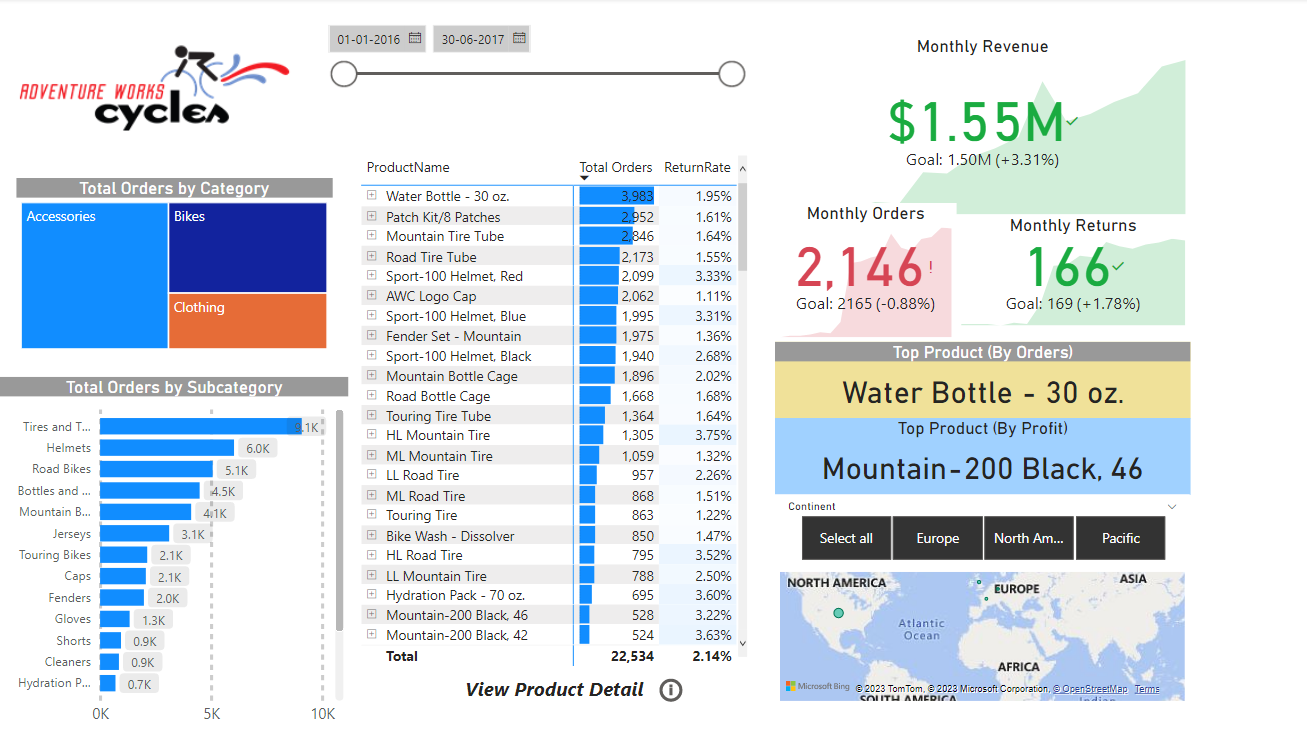

This screenshot's page, from the dashboard's own definition file:
{"tool":"powerbi","page":{"name":"Exec Summary","canvas":[1280,720],"ordinal":0},"visuals":[{"type":"image","box":[14.7,0,276.3,176],"z":0},{"type":"barChart","title":"Total Orders by Subcategory","fields":{"Y":["AW_Sales.Total Orders"],"Category":["AW_Product_Subcategory_Lookup.SubcategoryName"]},"box":[0,370.4,341.1,349.6],"z":1000},{"type":"treemap","title":"Total Orders by Category","fields":{"Group":["AW_Product_Category_Lookup.CategoryName","AW_Product_Subcategory_Lookup.SubcategoryName"],"Values":["AW_Sales.Total Orders"]},"box":[15.9,176,309.3,172.4],"z":2000},{"type":"pivotTable","fields":{"Rows":["AW_Product_Lookup.ProductName","AW_Product_Subcategory_Lookup.SubcategoryName","AW_Product_Category_Lookup.CategoryName"],"Values":["AW_Sales.Total Orders","AW_Returns.ReturnRate"]},"box":[348.8,148.8,387.5,508.8],"z":3000},{"type":"slicer","fields":{"Values":["AW_Calendar_Lookup.Date"]},"box":[307.5,16.2,428.8,110],"z":4000},{"type":"kpi","title":"Monthly Revenue","fields":{"Indicator":["AW_Sales.Total Revenue"],"TrendLine":["AW_Calendar_Lookup.Start of Month"],"Goal":["AW_Sales.Prev Month Revenue"]},"box":[757.5,36.2,406.2,180],"z":5000},{"type":"kpi","title":"Monthly Orders","fields":{"TrendLine":["AW_Calendar_Lookup.Start of Month"],"Indicator":["AW_Sales.Total Orders"],"Goal":["AW_Sales.Prev Month Orders"]},"box":[757.5,200,177.5,136.2],"z":6000},{"type":"kpi","title":"Monthly Returns","fields":{"TrendLine":["AW_Calendar_Lookup.Start of Month"],"Indicator":["AW_Returns.Total Returns"],"Goal":["AW_Sales.Prev Month Returns"]},"box":[935,211.2,228.8,113.8],"z":7000},{"type":"card","title":"Top Product (By Orders)","fields":{"Values":["Min(AW_Product_Lookup.ProductName)"]},"box":[757.5,336.2,406.2,75],"z":8000},{"type":"card","title":"Top Product (By Profit)","fields":{"Values":["Min(AW_Product_Lookup.ProductName)"]},"box":[757.5,411.2,406.2,75],"z":9000},{"type":"map","fields":{"Category":["AW_Territories_Lookup.Country"],"Size":["AW_Sales.Total Orders"]},"box":[757.5,556.2,406.2,136.2],"z":10000},{"type":"slicer","fields":{"Values":["AW_Territories_Lookup.Continent"]},"box":[757.9,485.3,405.8,70.9],"z":11000},{"type":"textbox","box":[348.8,657.5,387.5,62.5],"z":12000},{"type":"actionButton","box":[640,661.2,41.2,31.2],"z":13000}]}

Visuals, with their boxes in screenshot pixels (x1, y1, x2, y2), scaled from the page's 1280x720 canvas onto the 1307x733 screenshot:
image: 15/0/297/179
"Total Orders by Subcategory" barChart: 0/377/348/732
"Total Orders by Category" treemap: 16/179/332/355
pivotTable - AW_Product_Lookup.ProductName x AW_Product_Subcategory_Lookup.SubcategoryName: 356/151/752/669
slicer - AW_Calendar_Lookup.Date: 314/16/752/128
"Monthly Revenue" kpi: 773/37/1188/220
"Monthly Orders" kpi: 773/204/955/342
"Monthly Returns" kpi: 955/215/1188/331
"Top Product (By Orders)" card: 773/342/1188/419
"Top Product (By Profit)" card: 773/419/1188/495
map - AW_Territories_Lookup.Country x AW_Sales.Total Orders: 773/566/1188/705
slicer - AW_Territories_Lookup.Continent: 774/494/1188/566
textbox: 356/669/752/732
actionButton: 654/673/696/705
